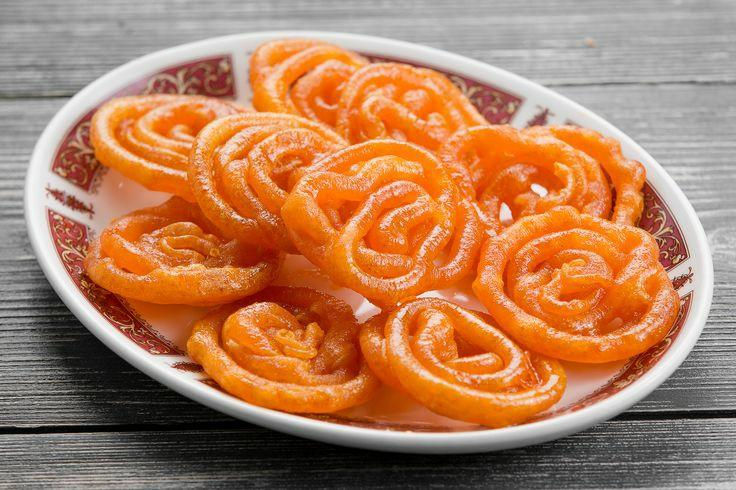Jalebi: (84, 37, 679, 427)
